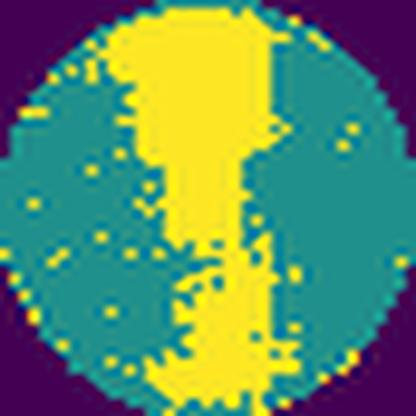Loc: (96, 7, 300, 415)
